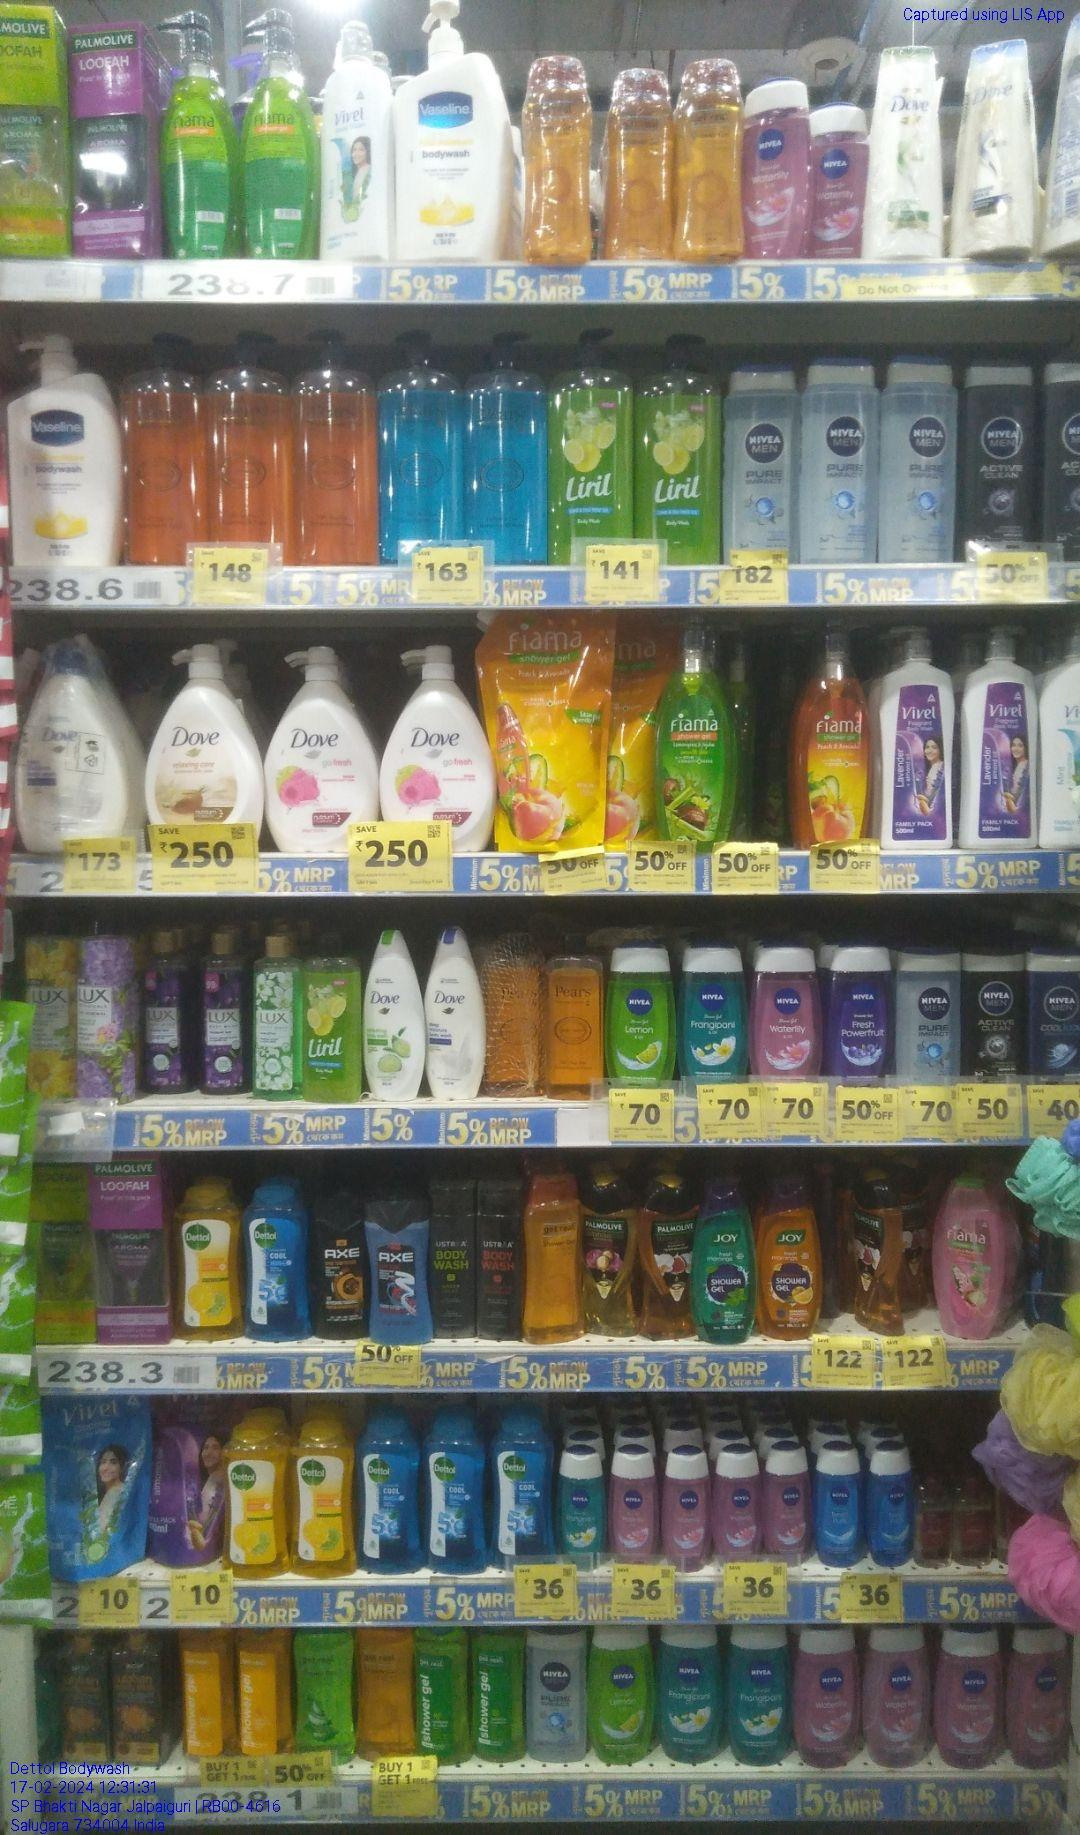Dettol_Bodywash_Cool: (244, 1186, 311, 1339), (357, 1429, 422, 1573), (490, 1420, 555, 1557), (427, 1421, 485, 1575)
Dettol_Bodywash_Refresh: (176, 1186, 238, 1339), (224, 1432, 287, 1579), (289, 1428, 351, 1577)
Dove_Deep_Moisture_Body_Wash_250ML: (429, 929, 486, 1100)
Dove_Refreshing_Body_Wash_250ML: (365, 929, 426, 1097)
Fiama_Shower_Gel_Patchouli_and_Macadamia_250ML: (937, 1178, 1000, 1336)
Get_Real_Shower_Gel_Moisturising_Glycerin_300ML: (527, 1177, 581, 1343)
Joy_Shower_Gel_Mandarin_and_Lemongrass_250ML: (760, 1177, 823, 1342)
Joy_Shower_Gel_Mint_and_Eucalyptus_250ML: (699, 1178, 753, 1342)
Liril_Lime_and_Tea_Tree_Oil_Body_Wash_250ML: (302, 933, 363, 1101)
Lux_Black_Orchid_Scent_and_Juniper_Oil_Body_Wash_245ML: (141, 930, 190, 1096), (195, 937, 247, 1094)
Lux_Body_Wash_Skin_Detox_Freesia_Scent_and_Alove_Vera_245ML: (252, 935, 297, 1099)
Nivea_Shower_Gel_Frangipani_and_Oil_250ML: (681, 946, 746, 1085), (661, 1624, 724, 1763), (730, 1624, 789, 1764)
Nivea_Shower_Gel_Fresh_Powerfruit_250ML: (831, 944, 890, 1078)
Nivea_Shower_Gel_Lemon_and_Oil_250ML: (608, 944, 672, 1087), (594, 1631, 653, 1758)
Nivea_Shower_Gel_Waterlily_and_Oil_250ML: (744, 80, 807, 257), (939, 1627, 1003, 1771), (795, 1627, 859, 1767), (755, 947, 822, 1081), (868, 1627, 932, 1764), (1009, 1629, 1067, 1766)
Palmolive_Luminous_Oils_Invigorating_Macadamia_Oil_With_Peony_250ML: (582, 1178, 640, 1335)
Palmolive_Luminous_Oils_With_White_Orchid_Shower_Gel_250ML: (643, 1180, 694, 1339)
